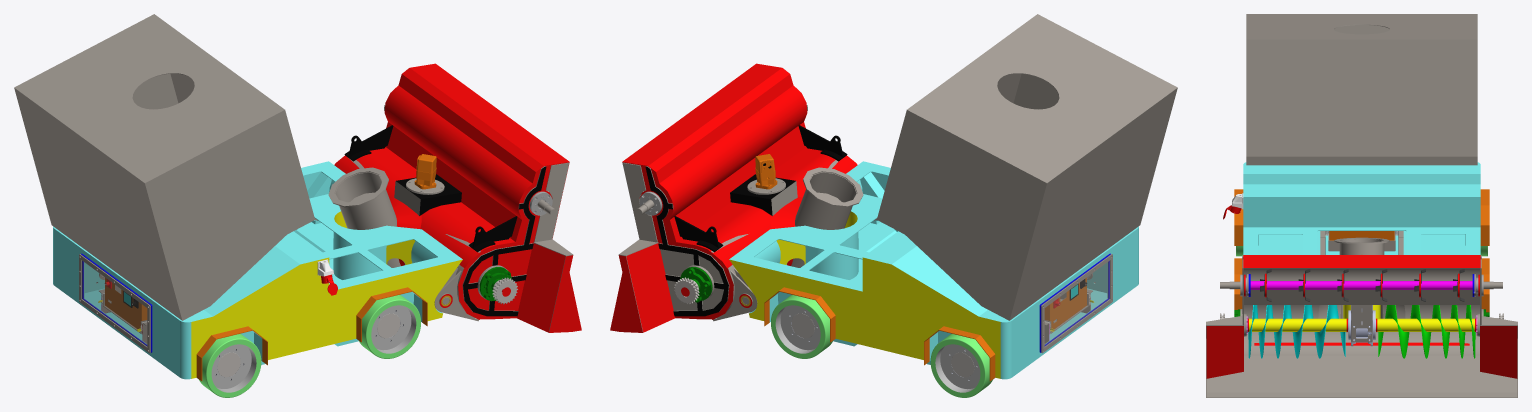
Rendered from assembly-08.glb.
3 renders of one model, left to right at view 1: azimuth 30°, elevation 25°; view 2: azimuth 150°, elevation 25°; view 3: azimuth 270°, elevation 25°, orthographic. The views are drawn at different scales.
Parts seen in each view (by area): view 1: 收料自走車.20250923.-1; view 2: 收料自走車.20250923.-1; view 3: 收料自走車.20250923.-1.
Part boxes in pixels (box(x1,y1,x2,y2)): 收料自走車.20250923.-1: box(14, 14, 581, 397); 收料自走車.20250923.-1: box(610, 14, 1177, 397); 收料自走車.20250923.-1: box(1206, 14, 1517, 397).
Bounding box in the file's own units: 2.91 × 1.78 × 2.1.
Materials: 32 (2 with a texture image).
